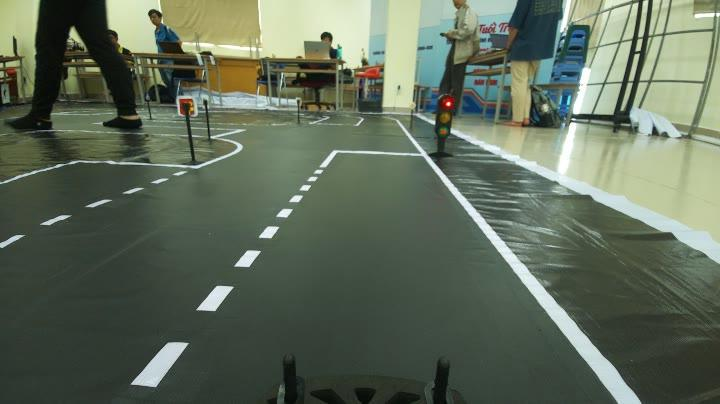trafficlight: (424, 90, 460, 164)
